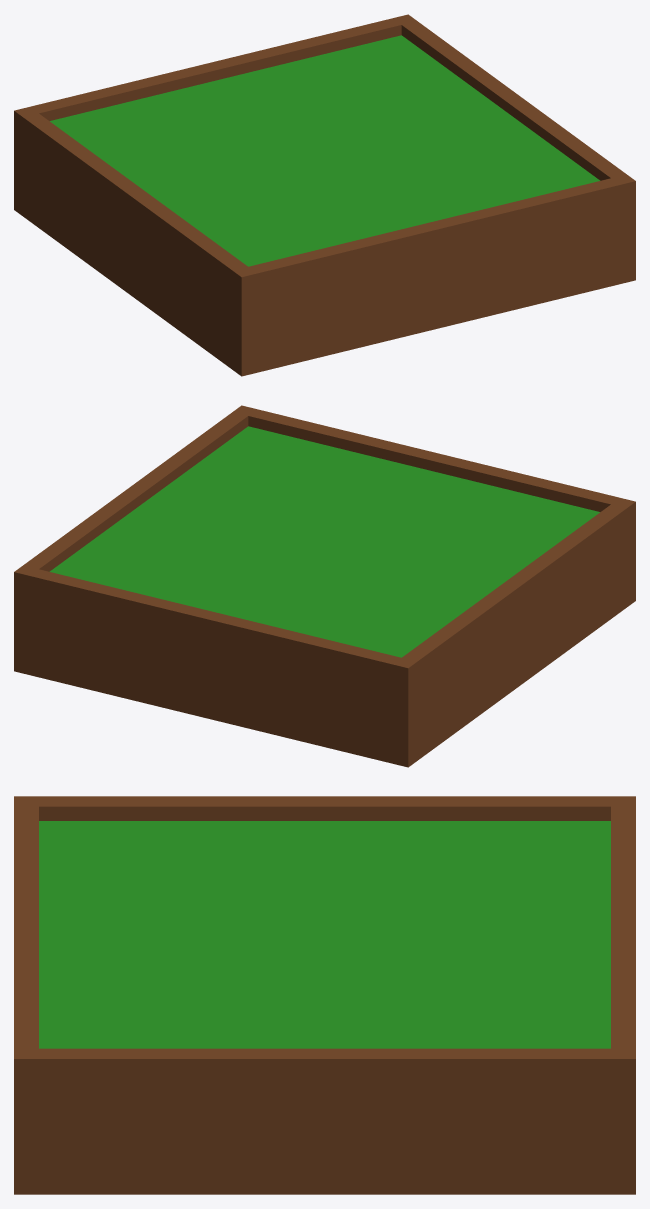
File: Bordtile.fbx
3 renders of one model, top to bottom at view 1: azimuth 30°, elevation 25°; view 2: azimuth 150°, elevation 25°; view 3: azimuth 270°, elevation 25°, orthographic. The views are drawn at different scales.
Parts seen in each view (by area): view 1: Cube; view 2: Cube; view 3: Cube.
Part boxes in pixels (x1,y1,x2,y2): Cube: (14,14,635,376); Cube: (14,405,635,767); Cube: (14,796,635,1194).
Size of the model in its own units: 200 by 48.12 by 200.
